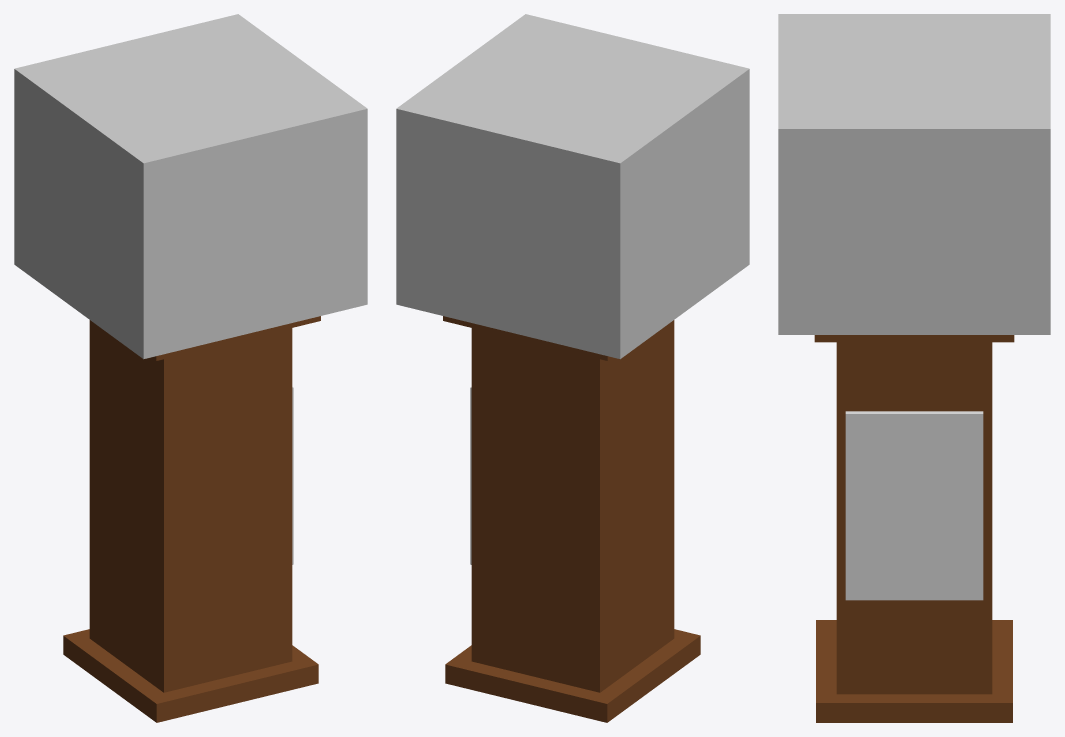
The model's file is podium 2.fbx.
3 renders of one model, left to right at view 1: azimuth 30°, elevation 25°; view 2: azimuth 150°, elevation 25°; view 3: azimuth 270°, elevation 25°, orthographic. The views are drawn at different scales.
Visible parts, largest first — view 1: Cube; view 2: Cube; view 3: Cube.
Part boxes in pixels (<box>): Cube: <box>14,14,367,722</box>; Cube: <box>396,14,749,722</box>; Cube: <box>778,14,1050,722</box>.
Bounding box in the file's own units: 459 × 1135 × 459.
